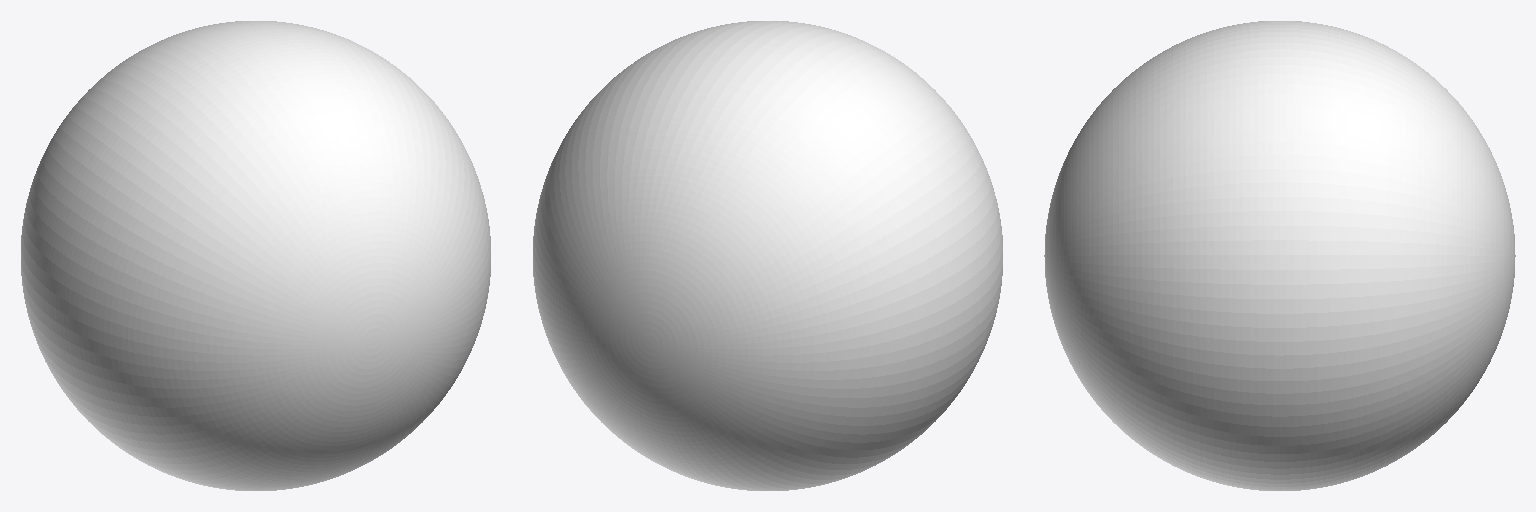
File: Jupiter.obj
The picture shows the model from 3 angles: view 1: azimuth 30°, elevation 25°; view 2: azimuth 150°, elevation 25°; view 3: azimuth 270°, elevation 25°; orthographic projection.
Parts seen in each view (by area): view 1: Object.1; view 2: Object.1; view 3: Object.1.
Part boxes in pixels (x1,y1,x2,y2): Object.1: (21, 21, 490, 490); Object.1: (533, 21, 1002, 490); Object.1: (1044, 21, 1515, 490).
Bounding box in the file's own units: 0.512 × 0.5119 × 0.512.